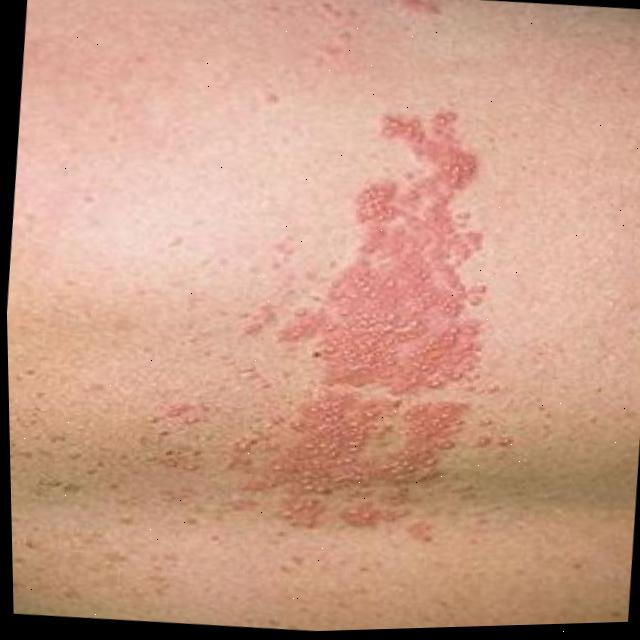Shingles: (197, 70, 522, 552)
